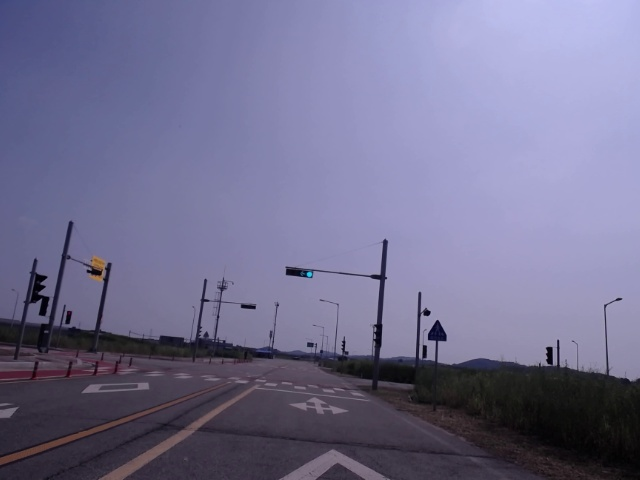straight_green_4: (285, 268, 314, 280)
